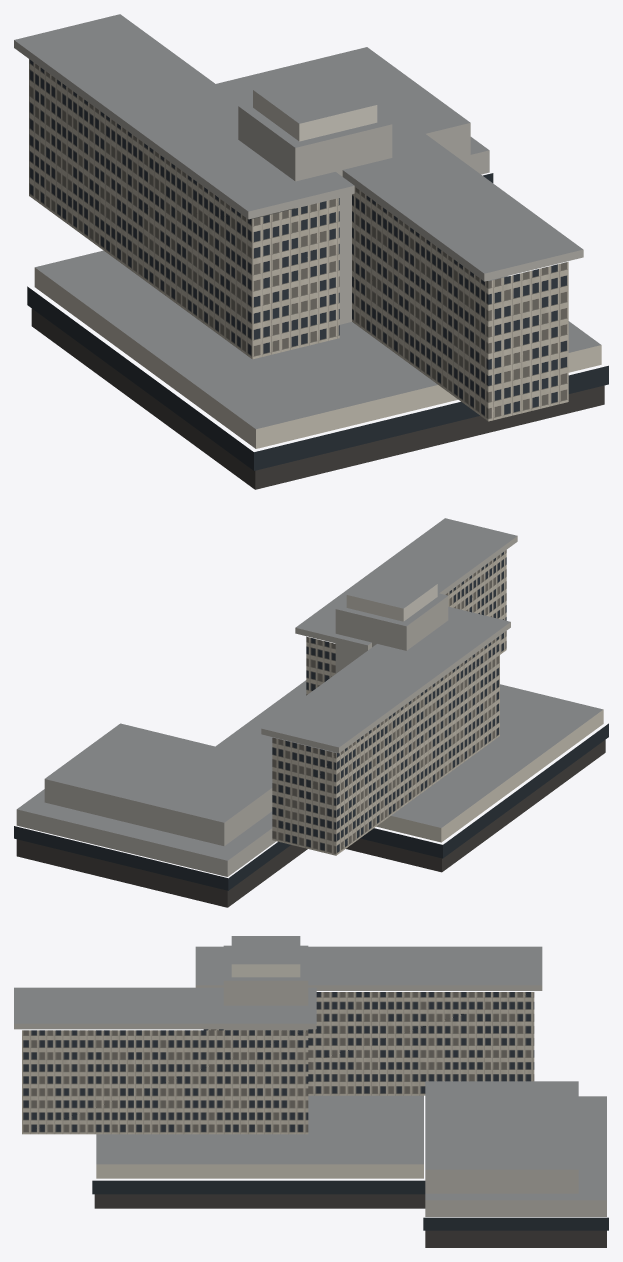
Rendered from shiba_park_hotel_east.glb.
The picture shows the model from 3 angles, top to bottom: view 1: azimuth 30°, elevation 25°; view 2: azimuth 150°, elevation 25°; view 3: azimuth 270°, elevation 25°; orthographic projection. The views are drawn at different scales.
Parts seen in each view (by area): view 1: ShibaParkHotelEast_Near; view 2: ShibaParkHotelEast_Near; view 3: ShibaParkHotelEast_Near.
Part boxes in pixels (x1=…): ShibaParkHotelEast_Near: x1=14, y1=14, x2=608, y2=489; ShibaParkHotelEast_Near: x1=14, y1=518, x2=608, y2=907; ShibaParkHotelEast_Near: x1=14, y1=936, x2=608, y2=1247.
Bounding box in the file's own units: 98.1 × 53.6 × 148.
7 materials, 1 textured.
